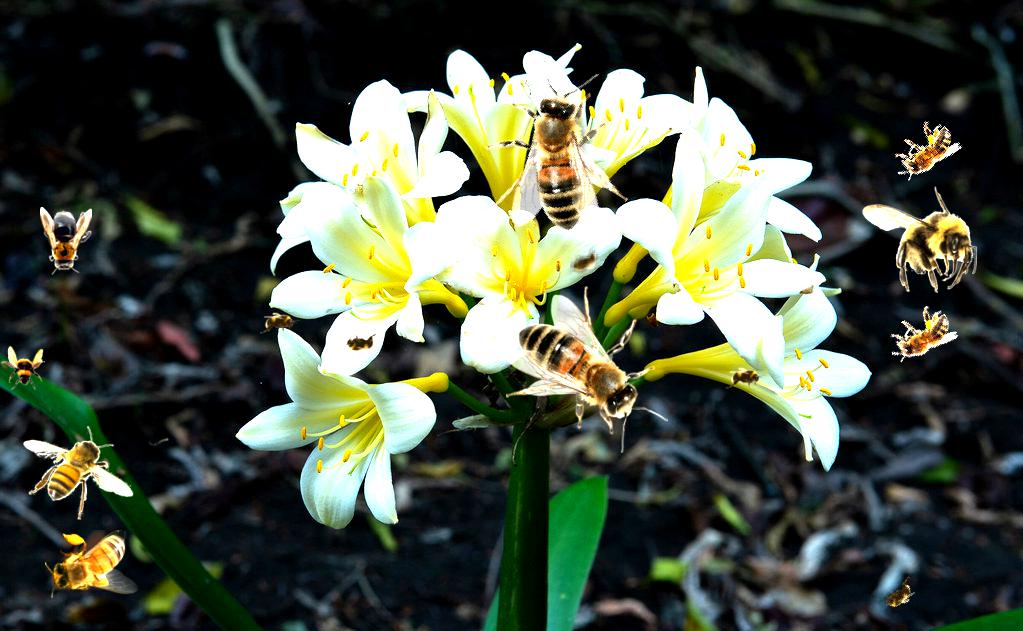Bee: (439, 38, 672, 270), (506, 286, 668, 453), (862, 186, 977, 293), (23, 426, 134, 520), (45, 530, 138, 598), (884, 113, 964, 192), (880, 298, 960, 375), (40, 207, 92, 275), (1, 346, 45, 390), (875, 575, 921, 617), (561, 243, 607, 281), (260, 312, 300, 334), (726, 367, 766, 389), (340, 332, 380, 354)
